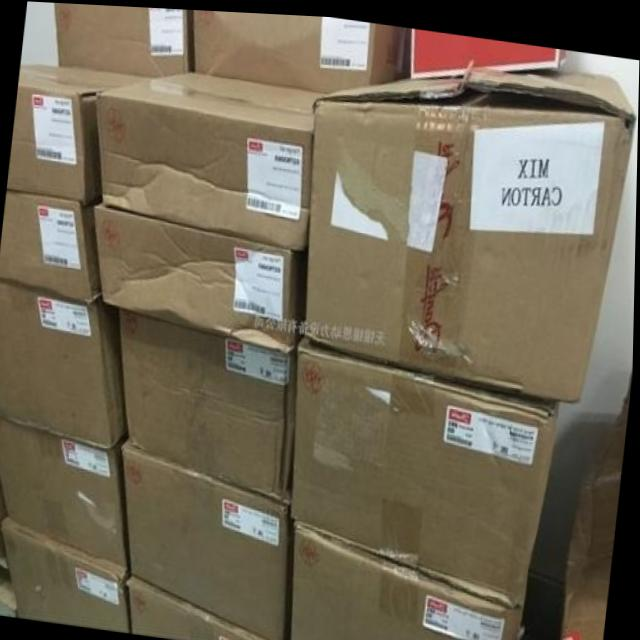box: (306, 59, 636, 394), (291, 334, 561, 599), (97, 69, 318, 245), (120, 305, 297, 496), (125, 443, 296, 640), (95, 203, 308, 345), (292, 521, 522, 640), (0, 278, 129, 448), (7, 63, 153, 201), (0, 416, 132, 568), (192, 8, 408, 89), (3, 519, 135, 632), (0, 188, 102, 302), (126, 572, 278, 640), (55, 2, 194, 76), (410, 23, 567, 73)
